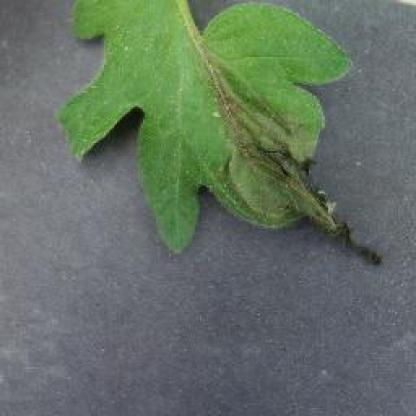bad leaf: (45, 1, 372, 210), (158, 114, 415, 283)
